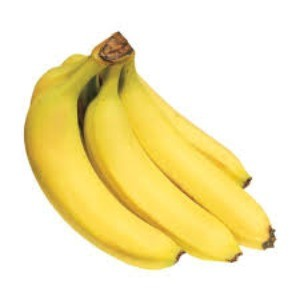banana_brain food: (41, 74, 203, 234)
